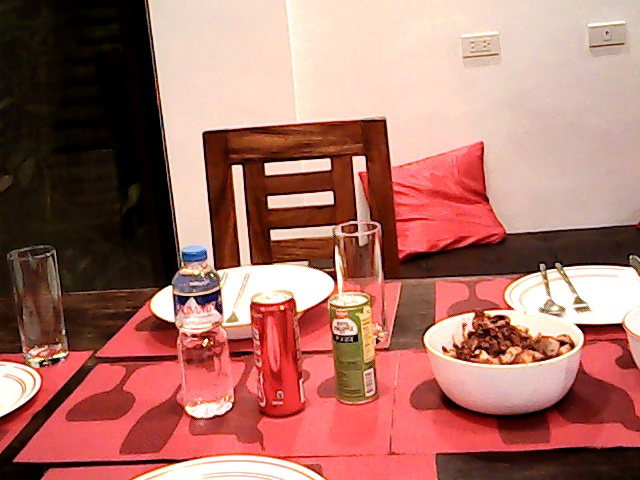Cola: (243, 290, 314, 417)
Pine Juice: (318, 291, 381, 406)
Summit Water: (166, 240, 240, 416)
